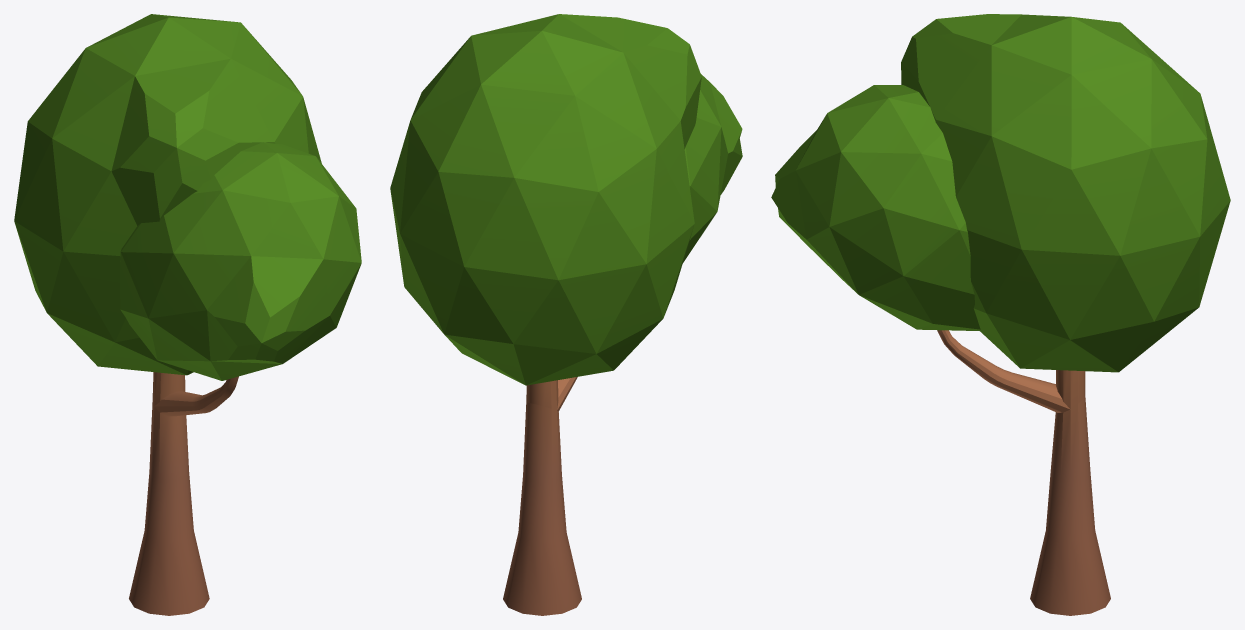
File: Tree2.fbx
The picture shows the model from 3 angles, left to right: view 1: azimuth 30°, elevation 25°; view 2: azimuth 150°, elevation 25°; view 3: azimuth 270°, elevation 25°; orthographic projection. The views are drawn at different scales.
Parts seen in each view (by area): view 1: Icosphere, Icosphere.001, Cylinder; view 2: Icosphere, Cylinder, Icosphere.001; view 3: Icosphere, Icosphere.001, Cylinder.
Part boxes in pixels (x1=…): Icosphere: x1=14, y1=14, x2=321, y2=375; Icosphere.001: x1=120, y1=142, x2=361, y2=380; Cylinder: x1=129, y1=372, x2=238, y2=615; Icosphere: x1=390, y1=14, x2=701, y2=385; Cylinder: x1=503, y1=377, x2=581, y2=615; Icosphere.001: x1=683, y1=74, x2=742, y2=262; Icosphere: x1=901, y1=14, x2=1230, y2=372; Icosphere.001: x1=771, y1=85, x2=980, y2=330; Cylinder: x1=937, y1=330, x2=1110, y2=615.
Size of the model in its own units: 698 by 1483 by 1061.
